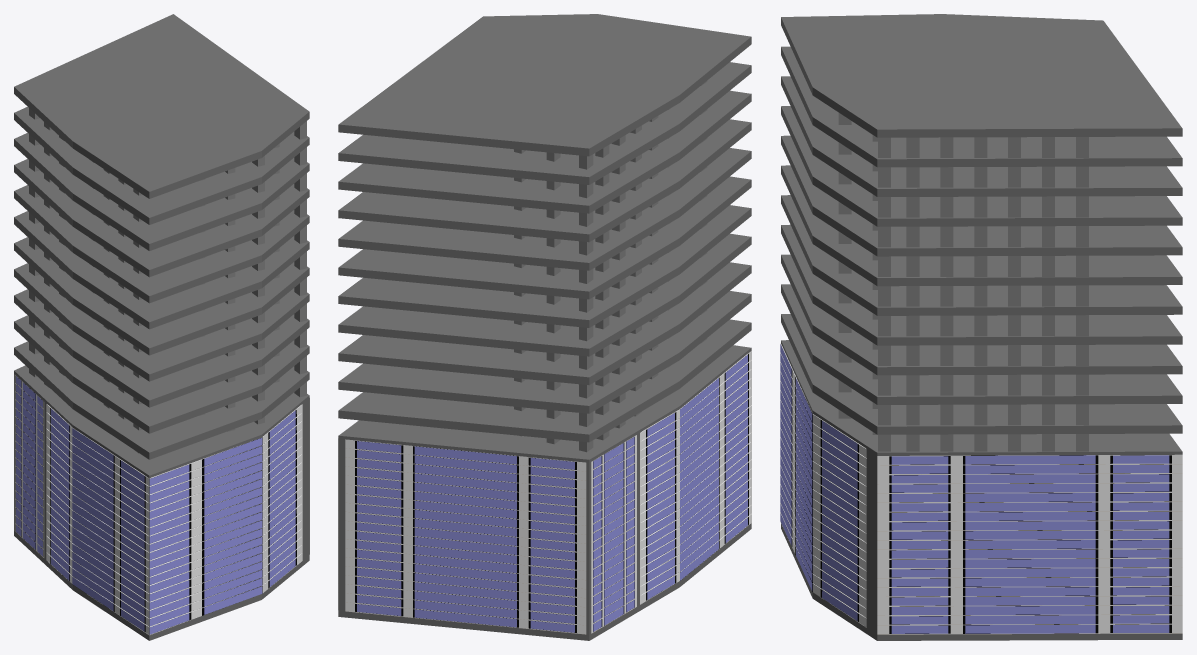
Rendered from TheSpire.fbx.
3 renders of one model, left to right at view 1: azimuth 30°, elevation 25°; view 2: azimuth 150°, elevation 25°; view 3: azimuth 270°, elevation 25°, orthographic. The views are drawn at different scales.
Parts seen in each view (by area): view 1: TheSpire, Window, Window.003, Window.004; view 2: TheSpire, Window.002, Window.003, Window.004; view 3: TheSpire, Window.001, Window.
Boxes of the visible parts, x1=… form: TheSpire: x1=14, y1=14, x2=309, y2=640; Window: x1=149, y1=404, x2=302, y2=634; Window.003: x1=46, y1=404, x2=148, y2=634; Window.004: x1=14, y1=374, x2=44, y2=557; TheSpire: x1=338, y1=14, x2=751, y2=640; Window.002: x1=345, y1=439, x2=586, y2=634; Window.003: x1=640, y1=351, x2=751, y2=604; Window.004: x1=591, y1=435, x2=636, y2=633; TheSpire: x1=781, y1=14, x2=1182, y2=640; Window.001: x1=877, y1=454, x2=1182, y2=634; Window: x1=780, y1=343, x2=866, y2=627.
Size of the model in its own units: 5395 by 11092 by 7904.
